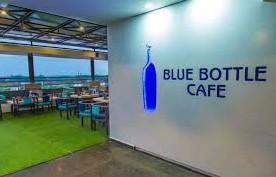bottle: (128, 29, 162, 119)
